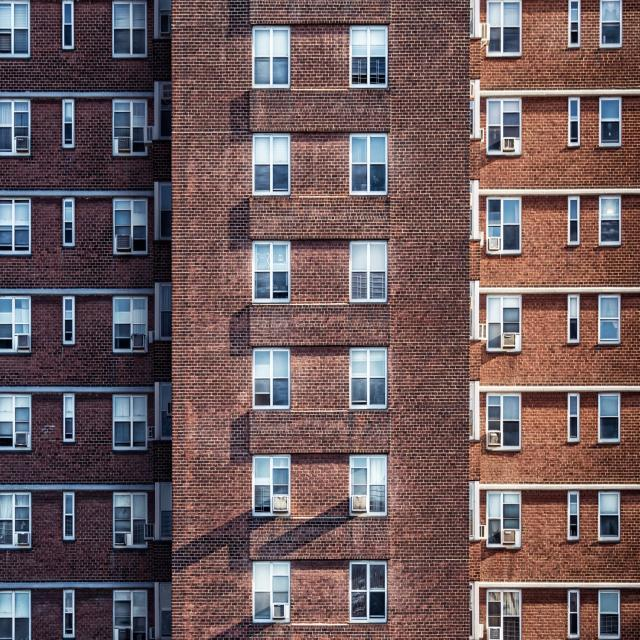Window: (254, 348, 292, 408), (252, 28, 290, 87), (350, 564, 388, 618), (254, 136, 290, 192), (253, 242, 288, 298), (353, 29, 385, 87), (352, 246, 384, 302), (351, 136, 386, 186), (352, 352, 384, 404), (490, 3, 520, 56), (253, 460, 290, 498), (114, 6, 142, 56), (253, 561, 286, 603), (116, 395, 145, 442), (487, 97, 521, 135), (2, 202, 30, 248), (1, 4, 27, 52), (484, 294, 518, 329), (2, 592, 29, 636), (114, 198, 145, 236), (488, 394, 518, 432), (116, 498, 144, 536), (491, 200, 516, 242), (489, 496, 521, 528), (115, 102, 143, 138), (114, 300, 144, 333), (599, 492, 620, 539), (354, 459, 382, 494), (600, 396, 621, 440), (114, 590, 142, 623), (2, 102, 28, 137), (0, 298, 28, 330), (1, 495, 28, 528), (598, 297, 618, 339), (598, 594, 618, 636), (486, 592, 518, 618), (601, 101, 620, 144), (600, 203, 621, 241), (0, 396, 26, 426), (602, 4, 620, 44), (568, 198, 581, 244), (63, 100, 75, 144), (62, 397, 74, 440), (569, 395, 579, 445), (568, 100, 579, 144), (570, 3, 580, 47), (570, 296, 580, 339), (568, 495, 578, 538), (569, 594, 579, 636), (64, 298, 73, 342), (64, 594, 74, 633), (64, 5, 73, 48), (64, 200, 72, 248), (65, 494, 72, 534)
